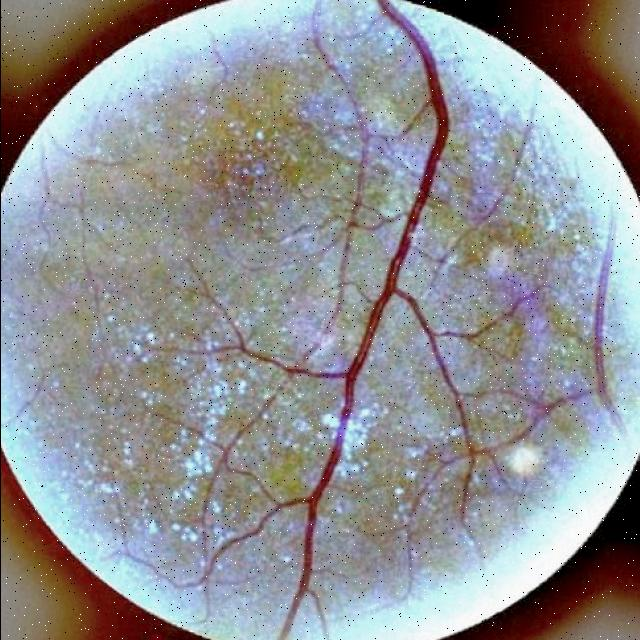Nerves: (197, 0, 501, 640), (301, 1, 376, 360), (508, 251, 612, 444)
